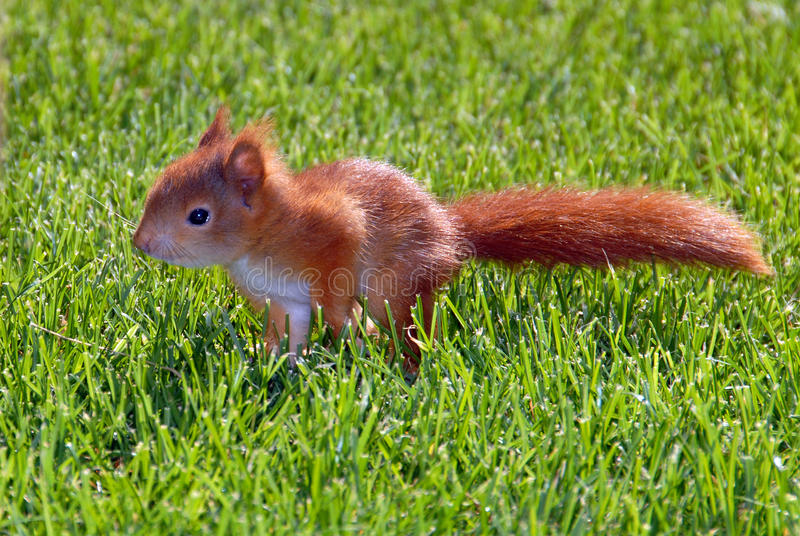Ardilla: (99, 98, 782, 376)
